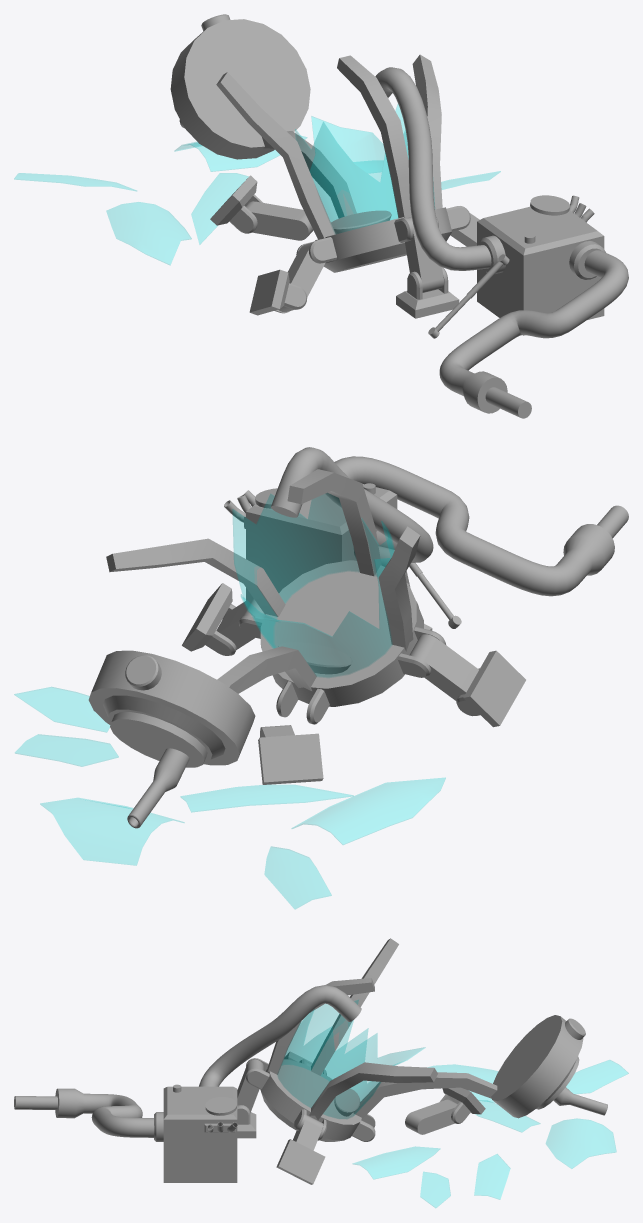
Rendered from SapTapperBroken.fbx.
3 renders of one model, top to bottom at view 1: azimuth 30°, elevation 25°; view 2: azimuth 150°, elevation 25°; view 3: azimuth 270°, elevation 25°, orthographic. The views are drawn at different scales.
Visible parts, largest first — view 1: polySurface15, Pump_Engine1, Pump_Pipe_1, polySurface1, Pump_Pipe_2, pCylinder8 (×3), pCylinder6 (×3), polySurface19, polySurface20, glass2, Storage_tank_1, polySurface21 (+7 smaller); view 2: polySurface1, polySurface15, Storage_tank_1, Pump_Pipe_1, pCylinder8 (×3), Pump_Engine1, glass6, glass2, polySurface21, Pump_Pipe_2, polySurface20, pCylinder6 (×2) (+9 smaller); view 3: polySurface1, Pump_Engine1, polySurface15, Storage_tank_1, Pump_Pipe_1, Pump_Pipe_2, pCylinder8 (×3), pCylinder6 (×3), glass6, polySurface21, polySurface18, polySurface19 (+11 smaller).
Boxes of the visible parts, box(x1,y1,x2,y2) form: polySurface15: box(170, 14, 310, 159); Pump_Engine1: box(477, 195, 605, 335); Pump_Pipe_1: box(439, 250, 628, 418); polySurface1: box(295, 104, 434, 233); Pump_Pipe_2: box(375, 67, 491, 270); pCylinder8 (×3): box(210, 175, 459, 318); pCylinder6 (×3): box(245, 201, 443, 312); polySurface19: box(216, 72, 335, 239); polySurface20: box(337, 55, 411, 218); glass2: box(106, 202, 191, 264); Storage_tank_1: box(315, 207, 451, 272); polySurface21: box(412, 54, 442, 209); polySurface1: box(232, 493, 394, 677); polySurface15: box(88, 650, 255, 828); Storage_tank_1: box(260, 560, 423, 706); Pump_Pipe_1: box(334, 456, 628, 596); pCylinder8 (×3): box(182, 583, 525, 784); Pump_Engine1: box(224, 483, 397, 600); glass6: box(40, 798, 184, 865); glass2: box(291, 777, 445, 844); polySurface21: box(106, 538, 285, 616); Pump_Pipe_2: box(271, 447, 433, 562); polySurface20: box(287, 469, 381, 576); pCylinder6 (×2): box(216, 596, 478, 700); polySurface1: box(277, 1000, 425, 1118); Pump_Engine1: box(154, 1084, 237, 1182); polySurface15: box(491, 1015, 607, 1118); Storage_tank_1: box(260, 1059, 361, 1141); Pump_Pipe_1: box(14, 1088, 154, 1137); Pump_Pipe_2: box(199, 985, 361, 1086); pCylinder8 (×3): box(237, 1087, 485, 1184); pCylinder6 (×3): box(237, 1059, 457, 1150); glass6: box(546, 1118, 616, 1168); polySurface21: box(309, 1062, 437, 1119); polySurface18: box(353, 1072, 497, 1119); polySurface19: box(311, 938, 398, 1075).
Bounding box in the file's own units: 8.6 × 4.57 × 15.36.
